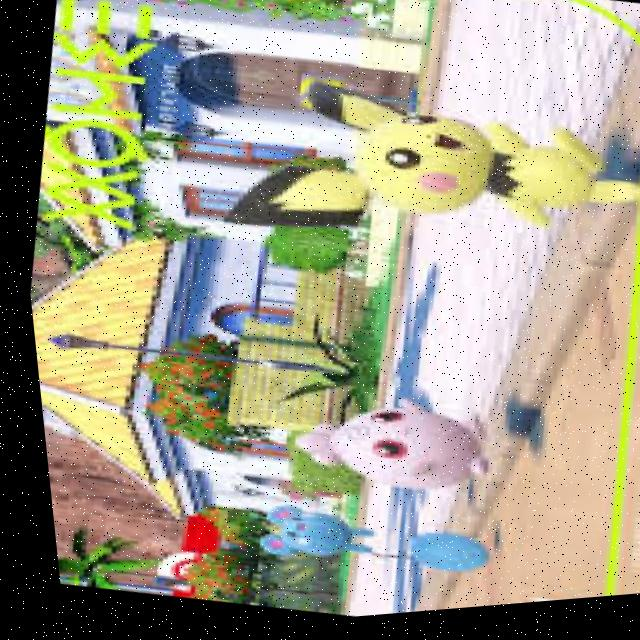pichu: (189, 27, 640, 314)
